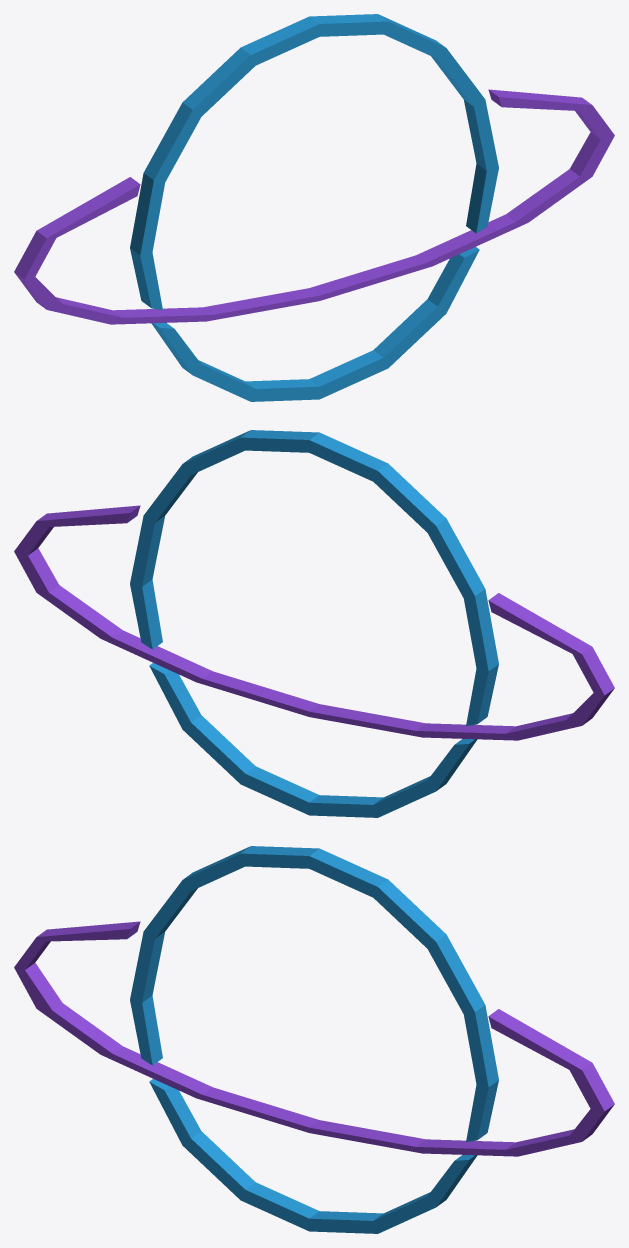
File: Arcade_Neon_Planet_1.fbx
3 renders of one model, top to bottom at view 1: azimuth 30°, elevation 25°; view 2: azimuth 150°, elevation 25°; view 3: azimuth 330°, elevation 25°, orthographic.
Parts seen in each view (by area): view 1: Circle.052; view 2: Circle.052; view 3: Circle.052.
Part boxes in pixels (x1,y1,x2,y2): Circle.052: (14, 14, 614, 401); Circle.052: (14, 430, 614, 817); Circle.052: (14, 846, 614, 1233).
Size of the model in its own units: 330 by 201 by 10.
